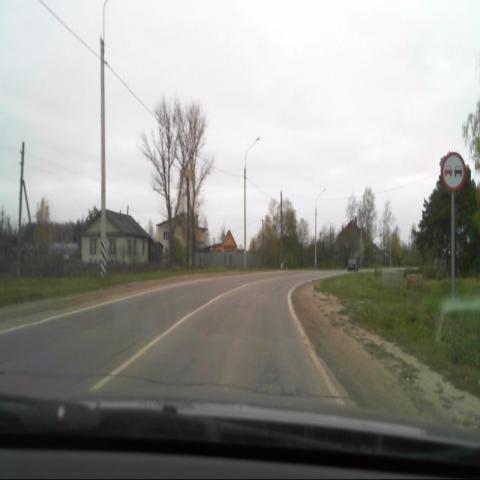3_20: (443, 152, 465, 192)
